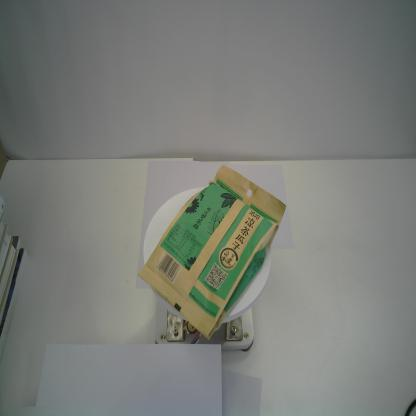Dried Food: (136, 162, 287, 340)
